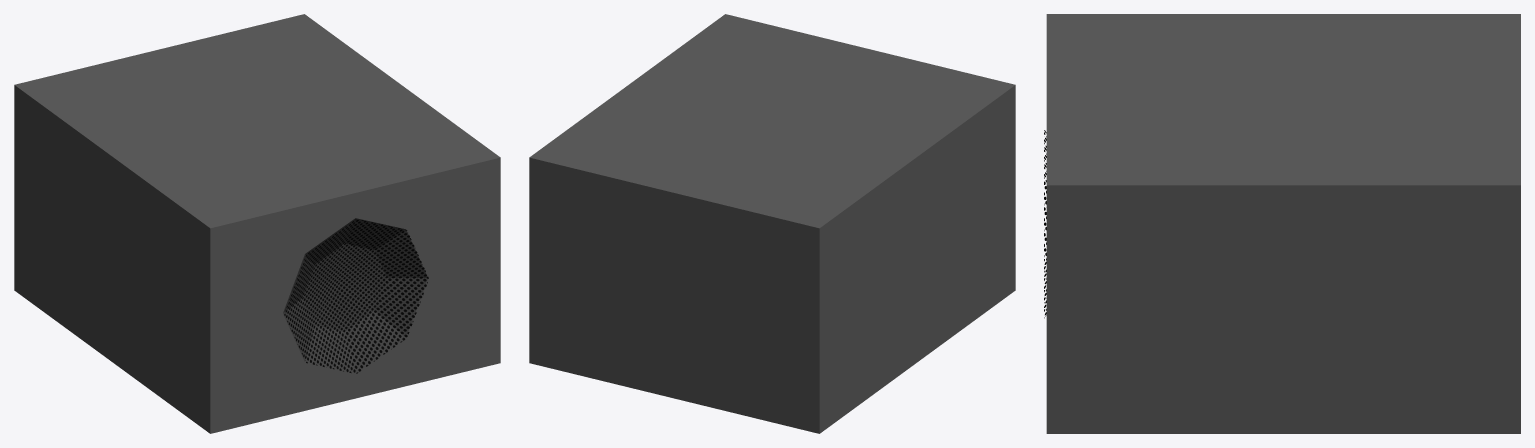
File: Itr_Obj_Speaker1_Top_03.FBX
3 renders of one model, left to right at view 1: azimuth 30°, elevation 25°; view 2: azimuth 150°, elevation 25°; view 3: azimuth 270°, elevation 25°, orthographic. The views are drawn at different scales.
Visible parts, largest first — view 1: Itr_Obj_Speaker1_Top_03; view 2: Itr_Obj_Speaker1_Top_03; view 3: Itr_Obj_Speaker1_Top_03.
Part boxes in pixels (<box>): Itr_Obj_Speaker1_Top_03: <box>14,14,500,433</box>; Itr_Obj_Speaker1_Top_03: <box>529,14,1015,433</box>; Itr_Obj_Speaker1_Top_03: <box>1044,14,1520,433</box>.
Bounding box in the file's own units: 9.88 × 6.69 × 11.62.
